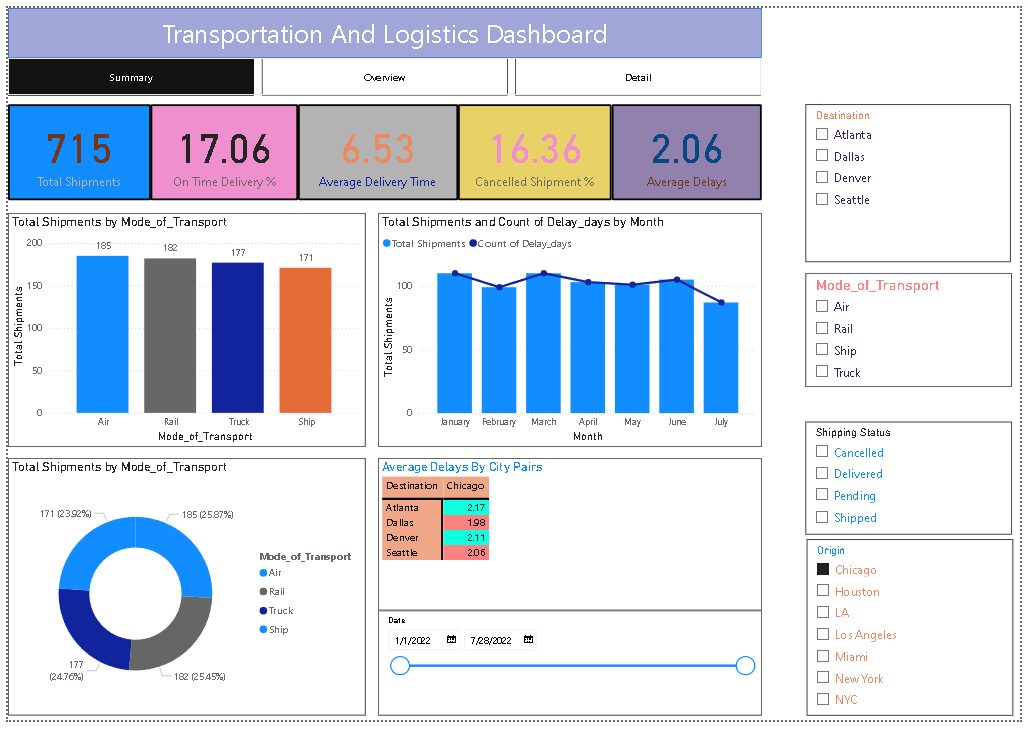

The dashboard page shown, as its layout file describes it:
{"tool":"powerbi","page":{"name":"Summary","canvas":[1350,950],"ordinal":0},"visuals":[{"type":"card","fields":{"Values":["customers.Total Shipments"]},"box":[0,128.3,190,128.3],"z":0},{"type":"card","fields":{"Values":["customers.Average Delivery Time"]},"box":[386.7,128.3,213.3,128.3],"z":1000},{"type":"card","fields":{"Values":["customers.Average Delays"]},"box":[805,128.3,200,128.3],"z":2000},{"type":"card","fields":{"Values":["customers.Cancelled Shipment %"]},"box":[600,128.3,205,128.3],"z":3000},{"type":"card","fields":{"Values":["customers.On Time Delivery %"]},"box":[190,128.3,196.7,128.3],"z":4000},{"type":"columnChart","fields":{"Y":["customers.Total Shipments"],"Category":["transport_modes.Mode_of_Transport"]},"box":[0,273.3,476.7,311.7],"z":5000},{"type":"donutChart","fields":{"Category":["transport_modes.Mode_of_Transport"],"Y":["customers.Total Shipments"]},"box":[0,600,476.7,343.3],"z":6000},{"type":"pivotTable","title":"Average Delays By City Pairs","fields":{"Values":["customers.Average Delays"],"Columns":["routes.Origin"],"Rows":["routes.Destination"]},"box":[493.3,600,511.7,203.3],"z":7000},{"type":"lineStackedColumnComboChart","fields":{"Category":["shipments.Date.Variation.Date Hierarchy.Month","shipments.Date.Variation.Date Hierarchy.Day"],"Y":["customers.Total Shipments"],"Y2":["CountNonNull(shipments.Delay_days)"]},"box":[493.3,273.3,511.7,311.7],"z":8000},{"type":"pageNavigator","box":[0,66.7,1005,50],"z":9000},{"type":"slicer","fields":{"Values":["shipments.Date"]},"box":[493.3,803.3,511.7,140],"z":10000},{"type":"slicer","fields":{"Values":["transport_modes.Mode_of_Transport"]},"box":[1063.3,353.3,275,151.7],"z":11000},{"type":"slicer","fields":{"Values":["shipments.Status"]},"box":[1063.3,551.7,275,150],"z":12000},{"type":"slicer","fields":{"Values":["routes.Origin"]},"box":[1065,708.3,275,235],"z":13000},{"type":"slicer","fields":{"Values":["routes.Destination"]},"box":[1063.3,128.3,273.3,210],"z":14000},{"type":"shape","box":[0,0,1005,66.7],"z":15000}]}

Visuals, with their boxes in screenshot pixels (x1, y1, x2, y2), scaled from the page's 1350x950 canvas onto the 1027x731 screenshot:
card - customers.Total Shipments: region(0, 99, 145, 197)
card - customers.Average Delivery Time: region(294, 99, 456, 197)
card - customers.Average Delays: region(612, 99, 765, 197)
card - customers.Cancelled Shipment %: region(456, 99, 612, 197)
card - customers.On Time Delivery %: region(145, 99, 294, 197)
columnChart - customers.Total Shipments x transport_modes.Mode_of_Transport: region(0, 210, 363, 450)
donutChart - transport_modes.Mode_of_Transport x customers.Total Shipments: region(0, 462, 363, 726)
"Average Delays By City Pairs" pivotTable: region(375, 462, 765, 618)
lineStackedColumnComboChart - shipments.Date.Variation.Date Hierarchy.Month x shipments.Date.Variation.Date Hierarchy.Day: region(375, 210, 765, 450)
pageNavigator: region(0, 51, 765, 90)
slicer - shipments.Date: region(375, 618, 765, 726)
slicer - transport_modes.Mode_of_Transport: region(809, 272, 1018, 389)
slicer - shipments.Status: region(809, 425, 1018, 540)
slicer - routes.Origin: region(810, 545, 1019, 726)
slicer - routes.Destination: region(809, 99, 1017, 260)
shape: region(0, 0, 765, 51)
